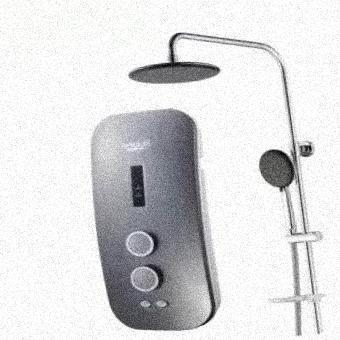Ducha: (80, 26, 339, 339)
